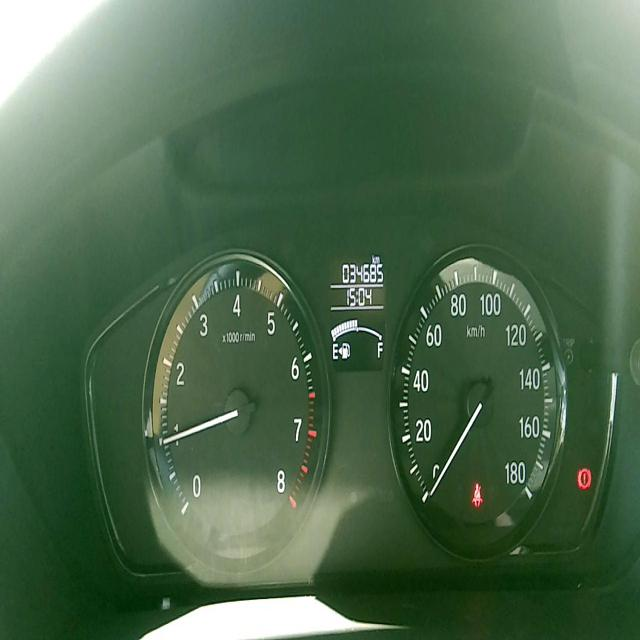odometer: (341, 260, 384, 286)
